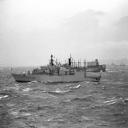Fragata: (11, 54, 102, 84)
